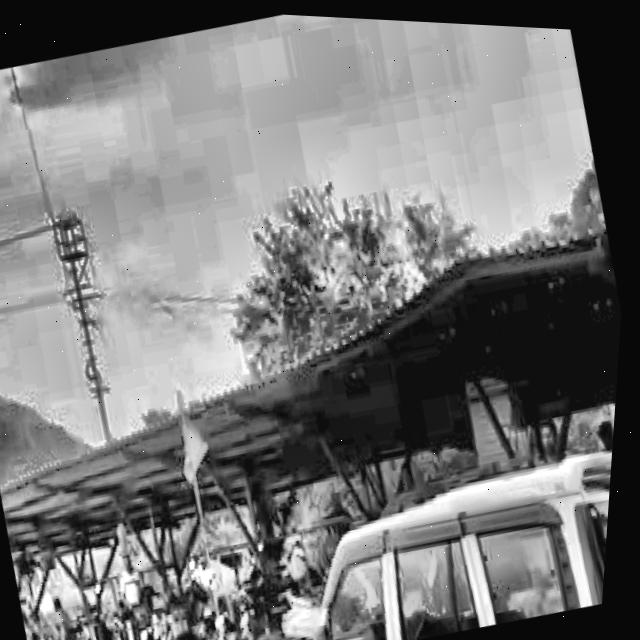light_vehicle: (184, 408, 619, 640)
